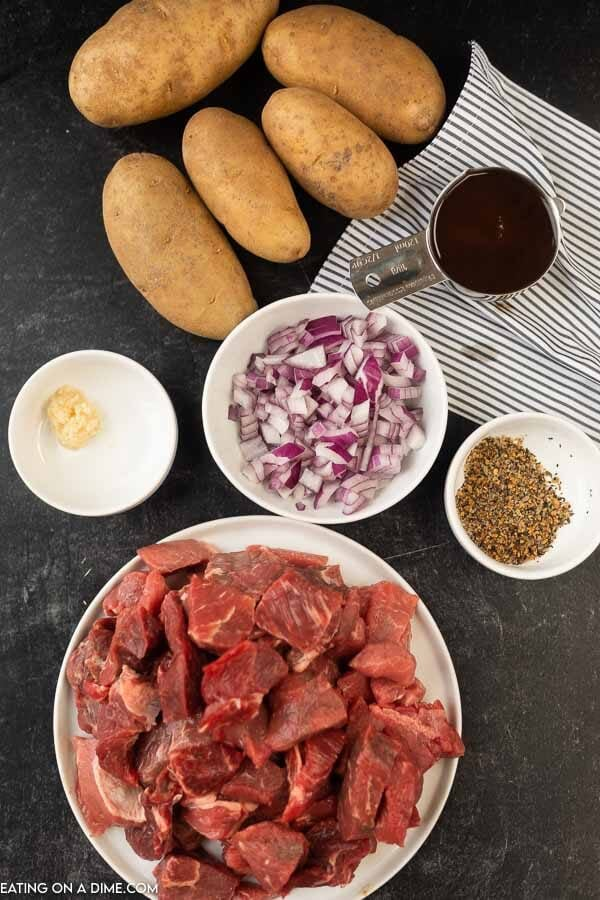Beef: (55, 541, 464, 894)
Potato: (85, 140, 274, 348), (244, 2, 450, 169), (164, 103, 322, 280), (59, 1, 290, 117), (247, 80, 412, 242)
